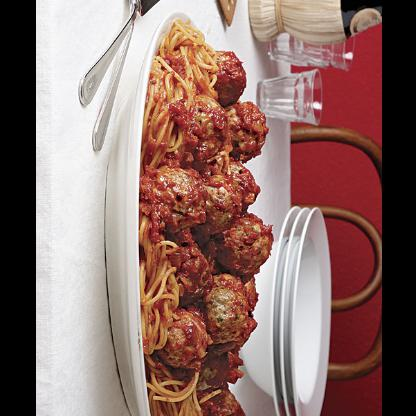spaghetti: (140, 19, 274, 416)
